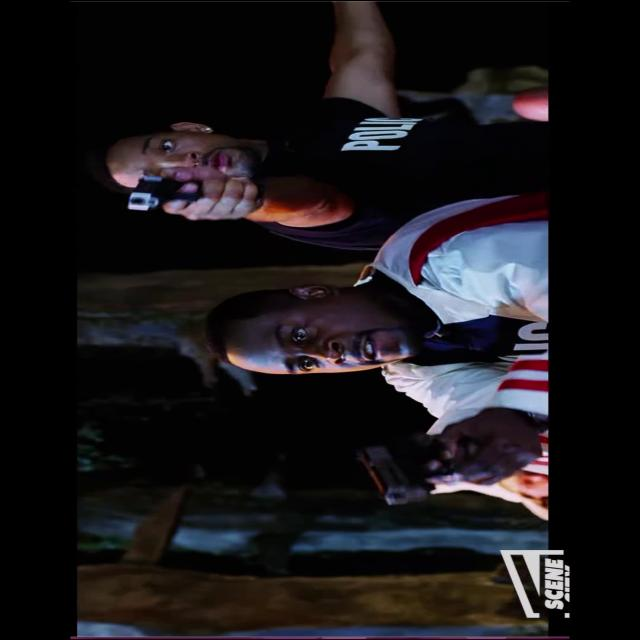weapons: (340, 408, 520, 512), (112, 168, 268, 228)
